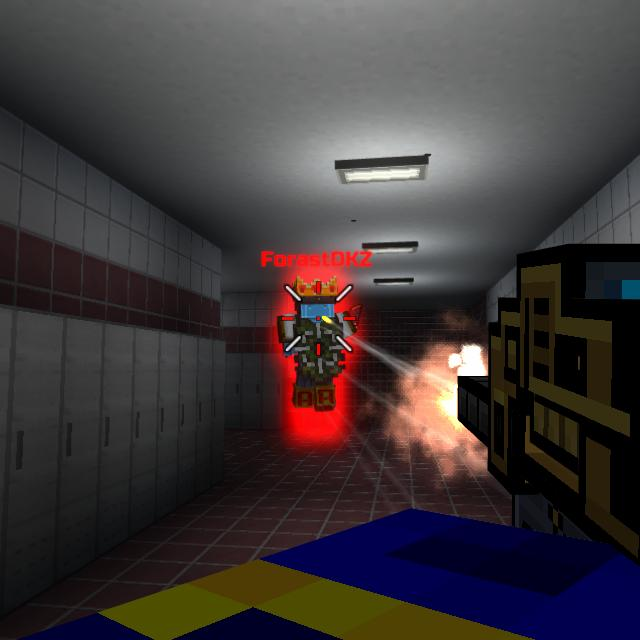Enemy: (280, 277, 358, 414)
